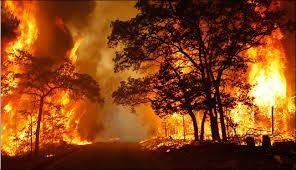fire: (149, 18, 294, 145), (1, 2, 93, 155)
